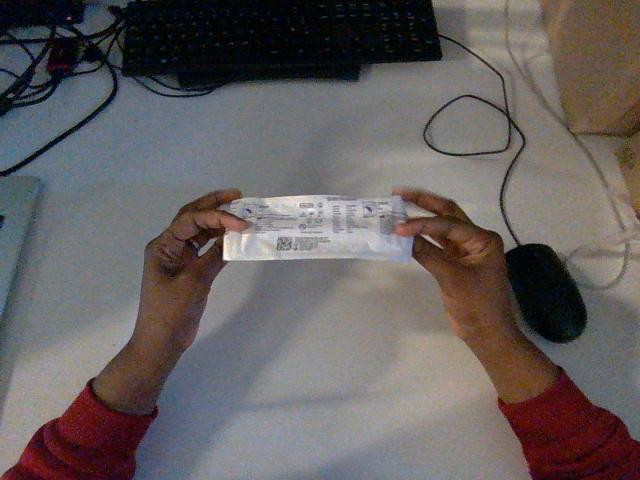syringe: (223, 195, 412, 262)
